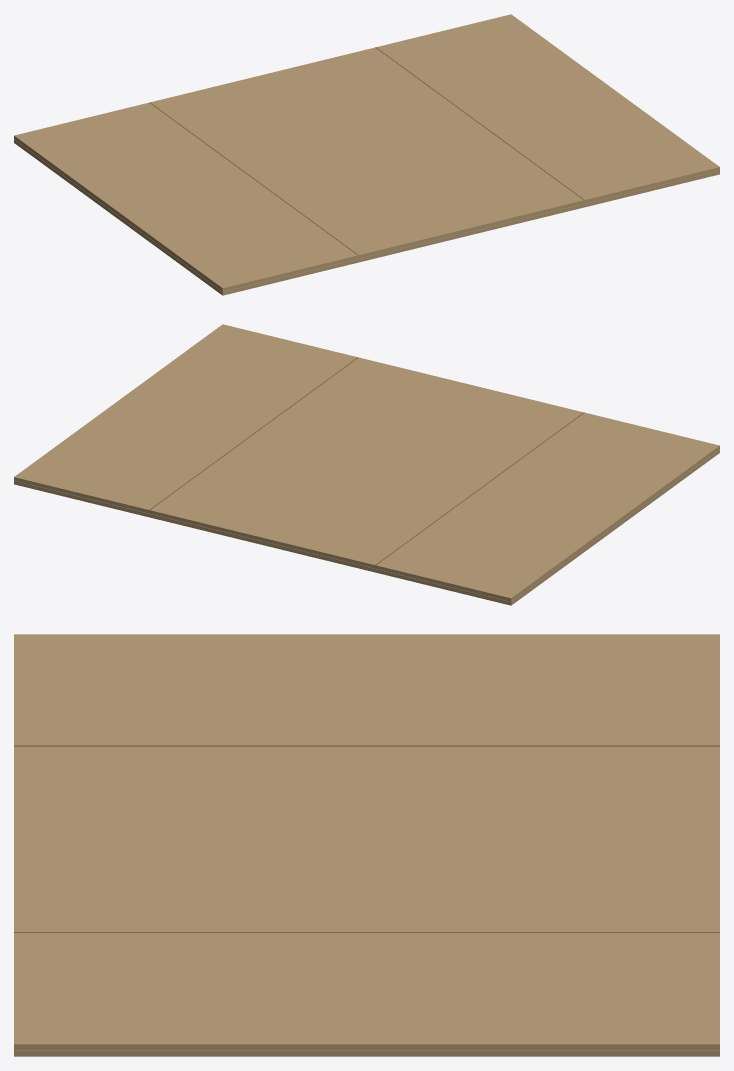
File: paper.glb
The picture shows the model from 3 angles, top to bottom: view 1: azimuth 30°, elevation 25°; view 2: azimuth 150°, elevation 25°; view 3: azimuth 270°, elevation 25°; orthographic projection. The views are drawn at different scales.
Parts seen in each view (by area): view 1: FlatCasePly1, FlatCasePly-1; view 2: FlatCasePly1, FlatCasePly-1; view 3: FlatCasePly1, FlatCasePly-1, FlatCaseFold-0.1, FlatCaseFold0.1.
Boxes of the visible parts, left/top/right/bottom form: FlatCasePly1: left=14, top=14, right=719, bottom=291; FlatCasePly-1: left=14, top=139, right=719, bottom=295; FlatCasePly1: left=14, top=324, right=719, bottom=601; FlatCasePly-1: left=14, top=449, right=719, bottom=605; FlatCasePly1: left=14, top=634, right=719, bottom=1050; FlatCasePly-1: left=14, top=1050, right=719, bottom=1056; FlatCaseFold-0.1: left=14, top=745, right=719, bottom=746; FlatCaseFold0.1: left=14, top=932, right=719, bottom=932.
Bounding box in the file's own units: 0.44 × 0.0063 × 0.32.
